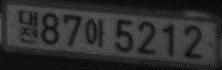1: (159, 22, 179, 55)
2: (183, 24, 203, 59), (137, 20, 156, 55)
5: (114, 19, 133, 52)
7: (62, 13, 82, 47)
8: (41, 12, 60, 44)
대전_V: (18, 9, 39, 44)
아: (84, 18, 105, 47)
